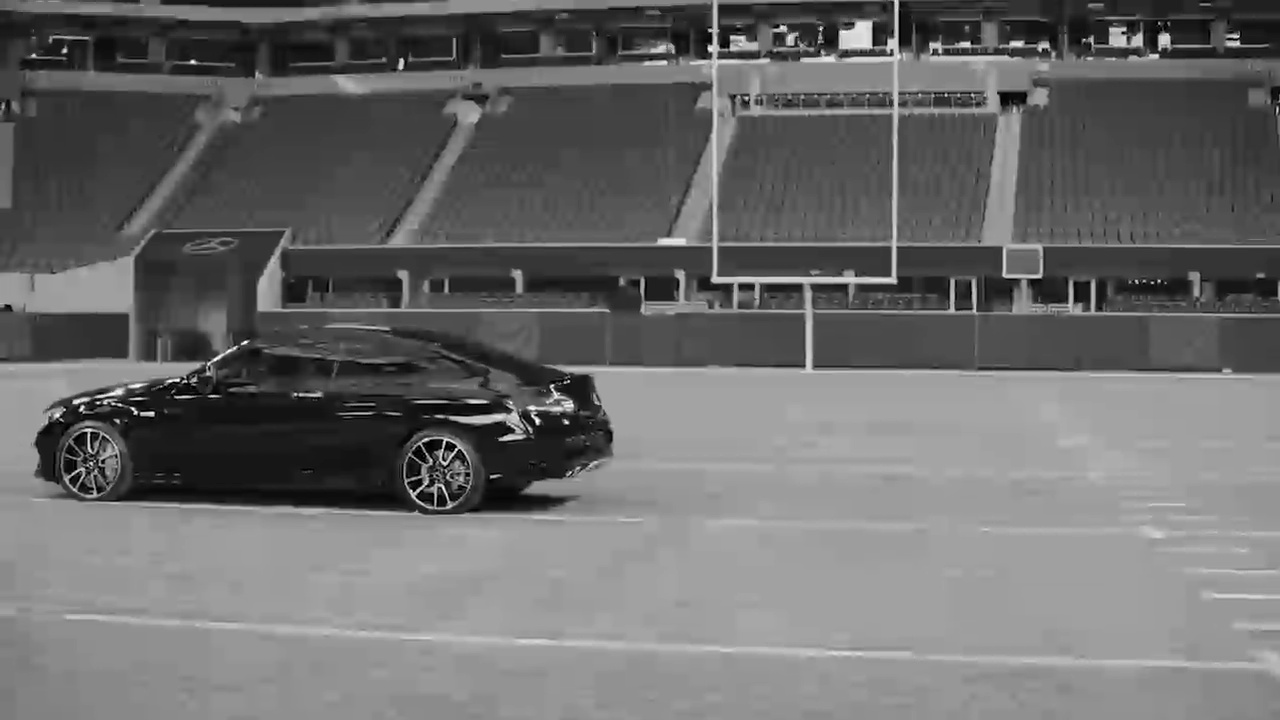car: (28, 318, 616, 526)
